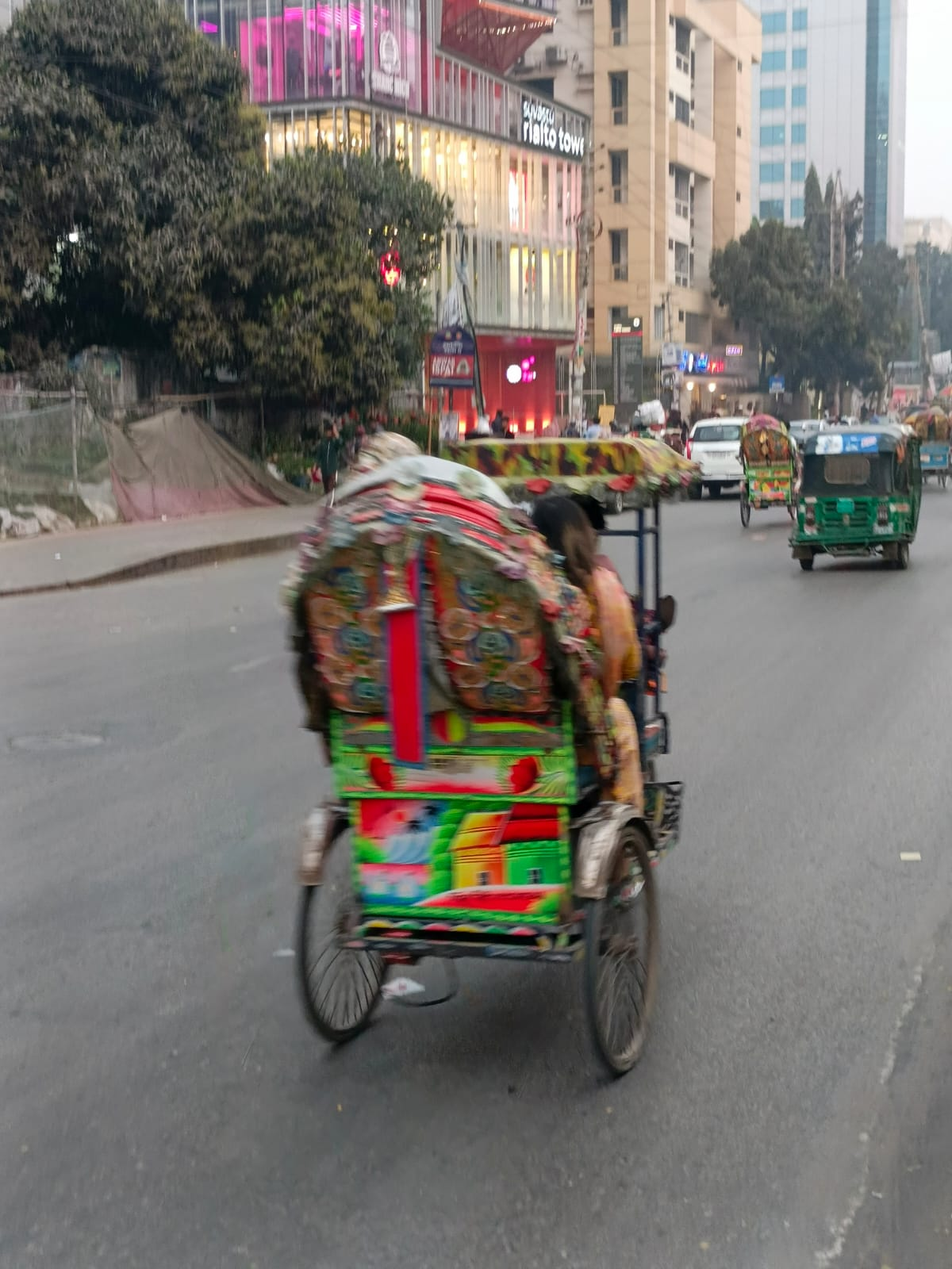auto-ricksaw: (280, 426, 692, 1236), (735, 418, 817, 530), (911, 384, 952, 485)
cng: (791, 418, 918, 557)
private car: (682, 405, 757, 490)
